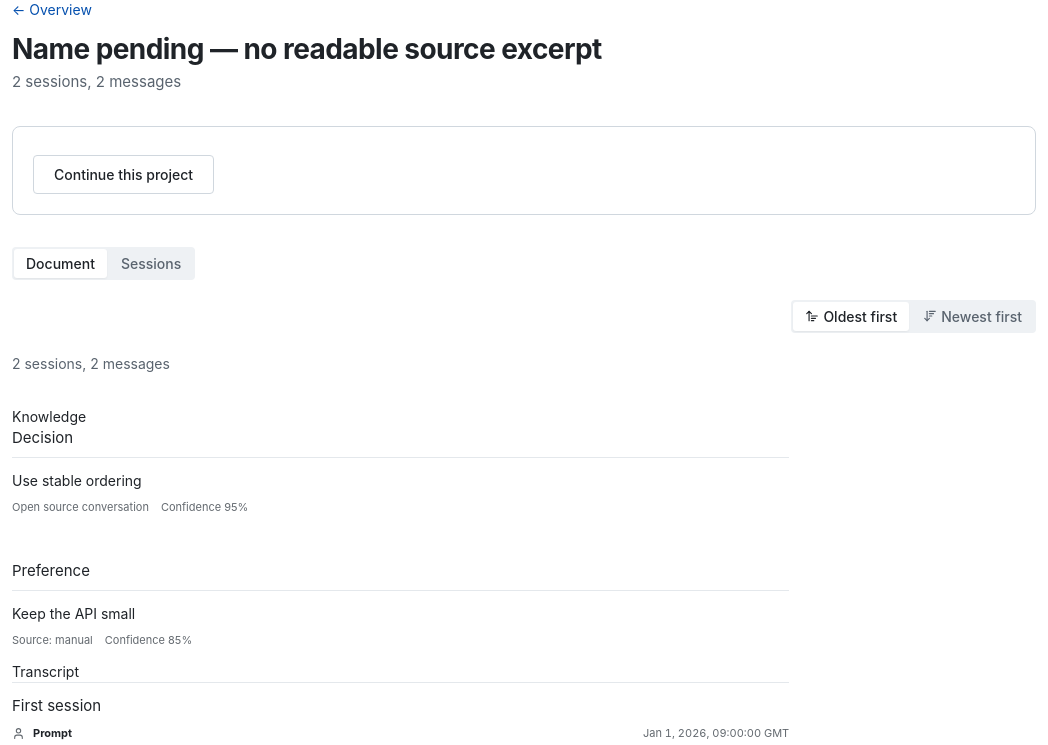
ProjectPage › loads the complete transcript before reversing it
The width and height of the screenshot is (1048, 745).
Click the button "Newest first" at (973, 316), box [911,302,1034,330]
(page scrolled)
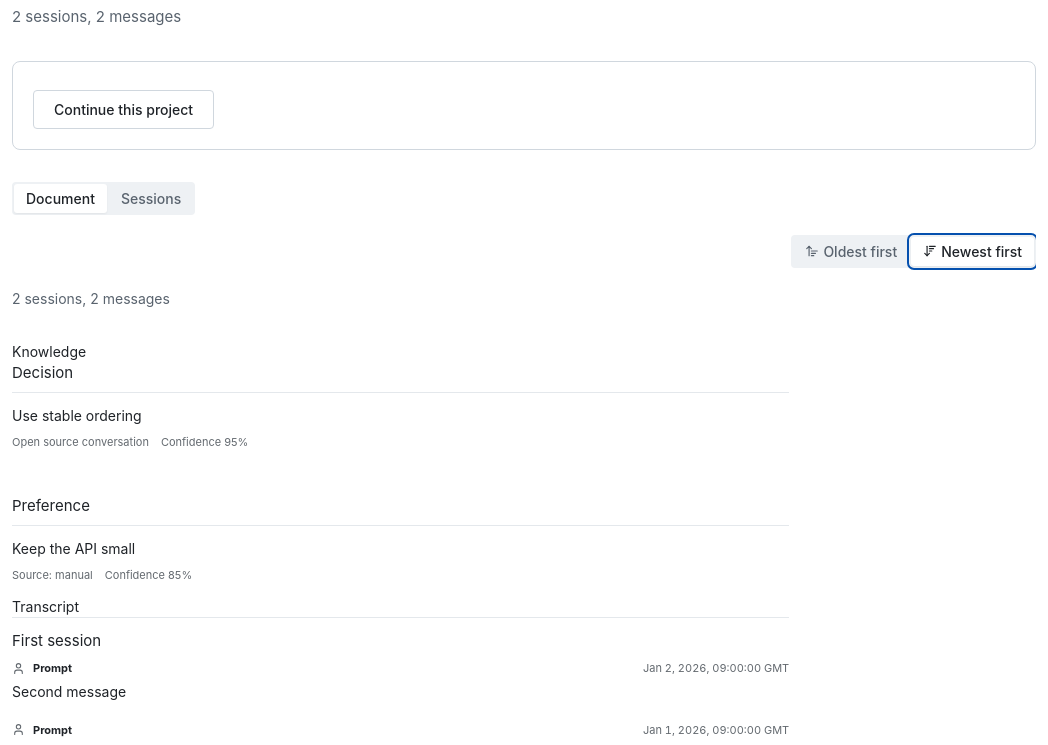
Expected: the text "Second message" is shown, [12,682,126,700]
